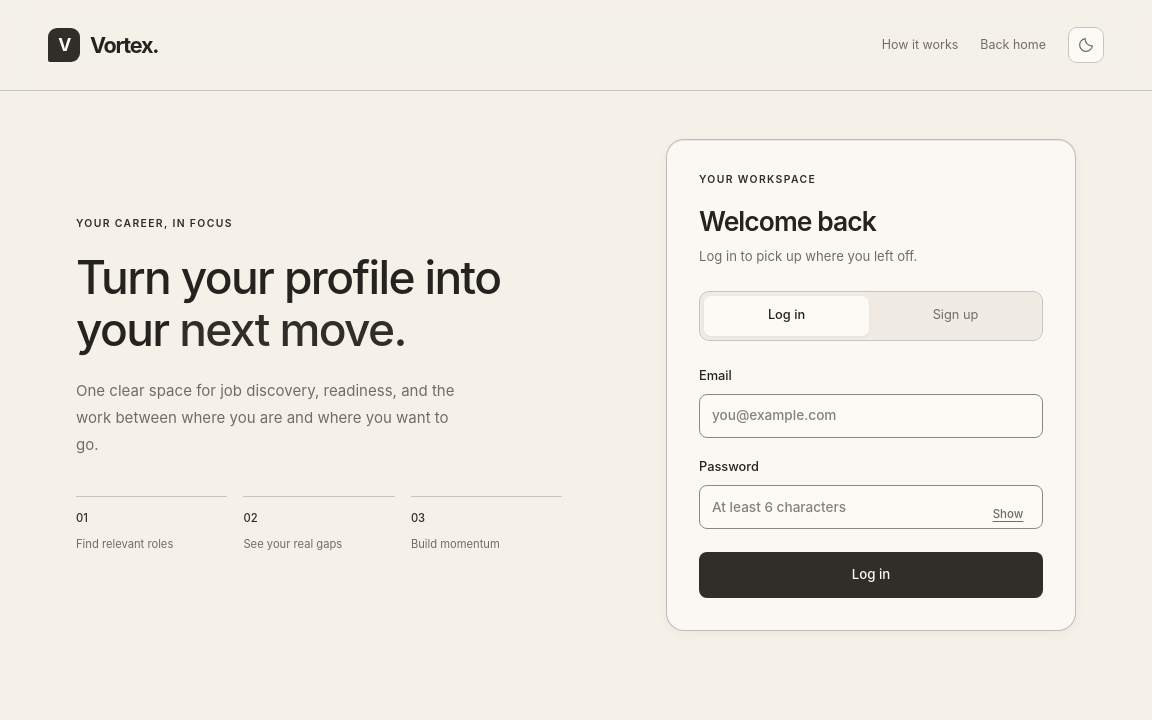
Login page › toggles the password field from the full button hit area
Click the button with aria-label "Show password" at x=1008, y=514, box [979,498,1037,532]
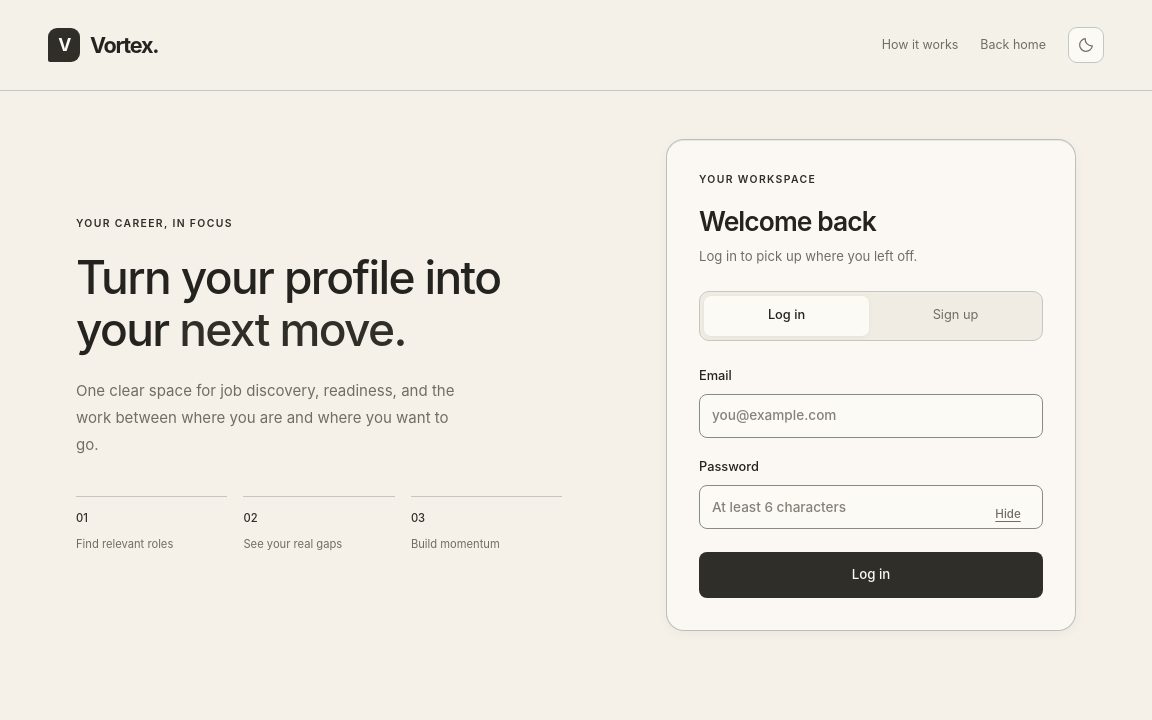
Check: the button with aria-label "Hide password" is shown, box [979,498,1037,532]
